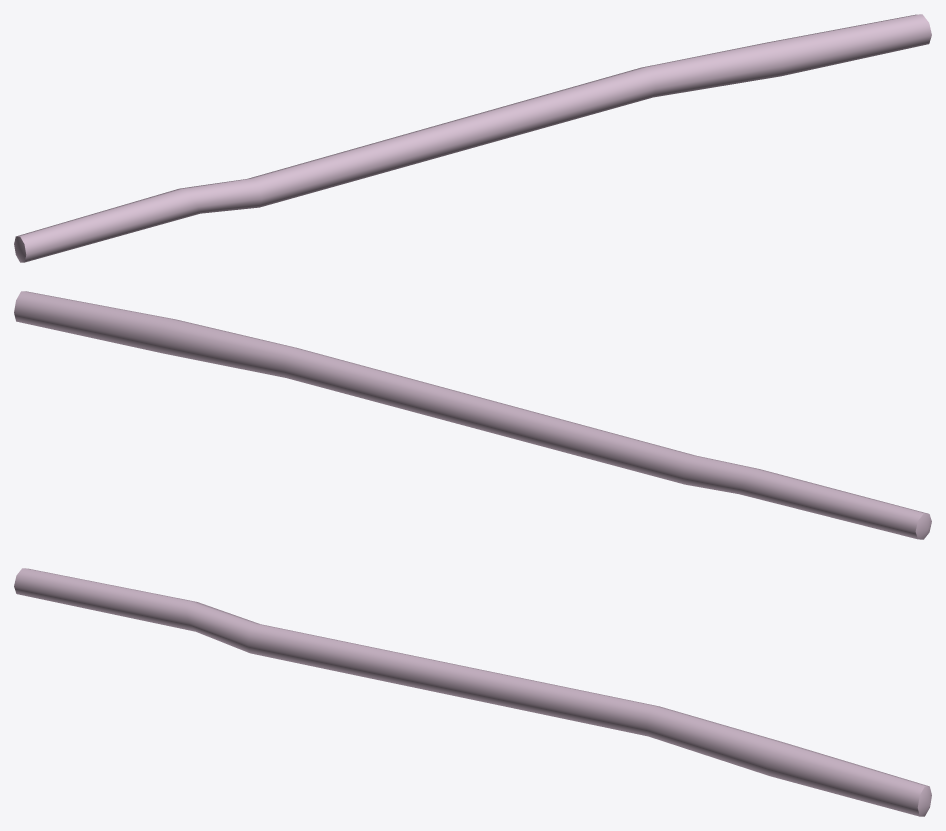
Rendered from trunk_02.fbx.
3 views of the same model, one above another, from view 1: azimuth 30°, elevation 25°; view 2: azimuth 150°, elevation 25°; view 3: azimuth 330°, elevation 25° (orthographic).
Visible parts, largest first — view 1: Cylinder.012; view 2: Cylinder.012; view 3: Cylinder.012.
Part boxes in pixels (left/top/right/bottom): Cylinder.012: left=14, top=14, right=931, bottom=262; Cylinder.012: left=14, top=291, right=931, bottom=539; Cylinder.012: left=14, top=568, right=931, bottom=816.
Bounding box in the file's own units: 4.04 × 0.1774 × 0.1544.
